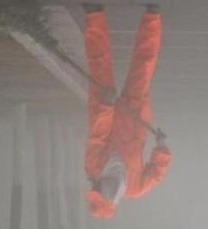person: (78, 1, 173, 219)
